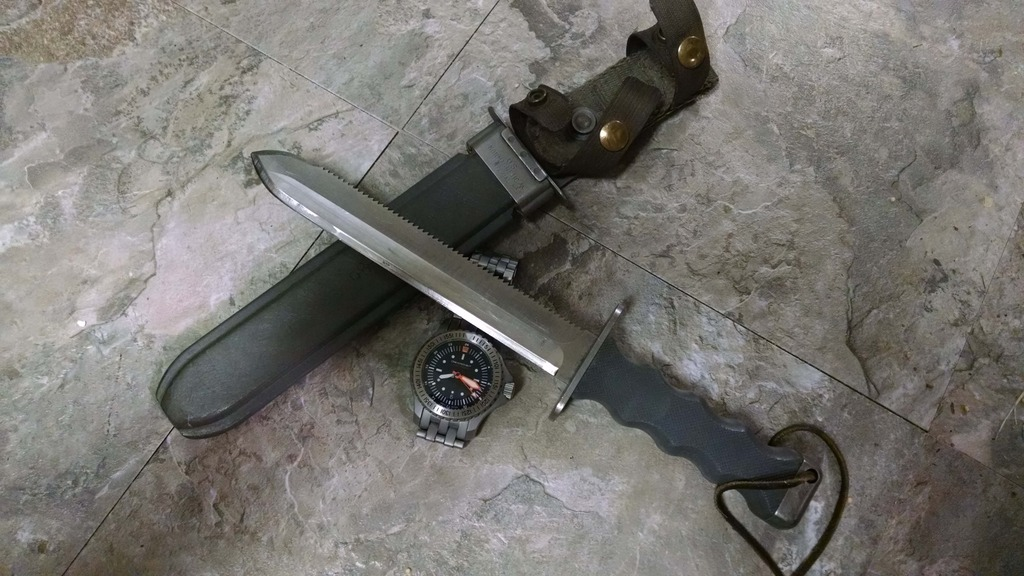knife: (235, 138, 577, 360)
